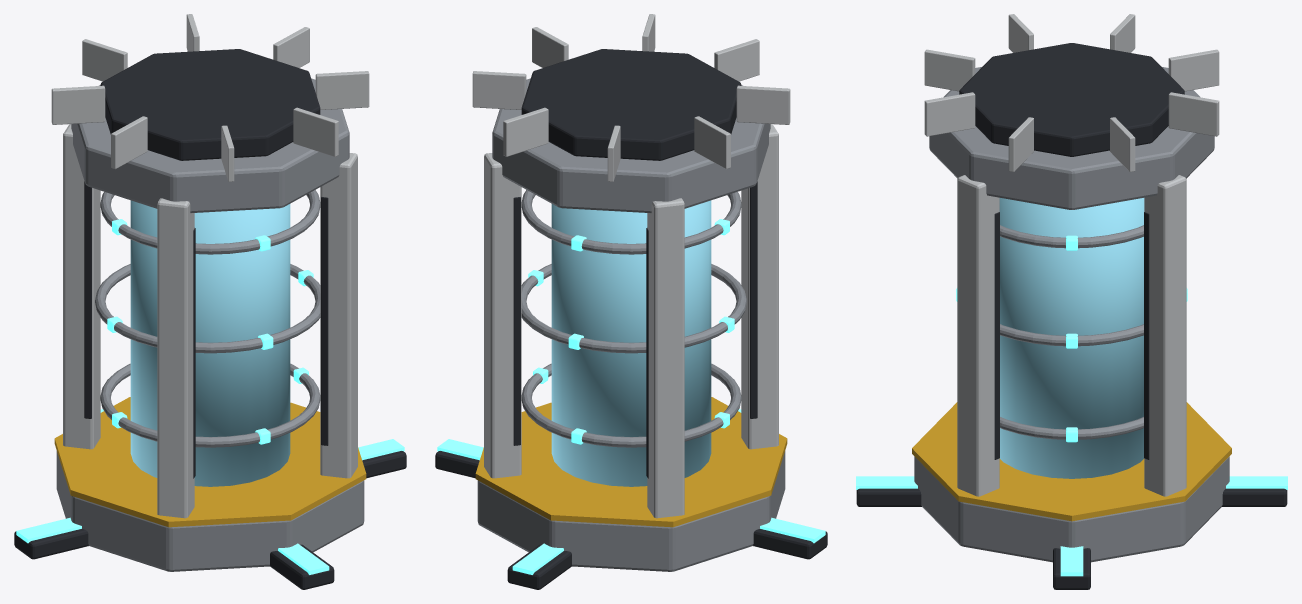
File: td_core.glb
3 views of the same model, side by side, from view 1: azimuth 30°, elevation 25°; view 2: azimuth 150°, elevation 25°; view 3: azimuth 270°, elevation 25° (orthographic).
Visible parts, largest first — view 1: CoreBody, CoreGlass, CoreRing1, CoreRing0, CoreRing2; view 2: CoreBody, CoreGlass, CoreRing1, CoreRing0, CoreRing2; view 3: CoreBody, CoreGlass, CoreRing1, CoreRing2, CoreRing0.
Boxes of the visible parts, box(x1,y1,x2,y2) form: CoreBody: box(14, 14, 406, 589); CoreGlass: box(130, 200, 290, 486); CoreRing1: box(95, 264, 320, 353); CoreRing0: box(100, 363, 320, 447); CoreRing2: box(100, 190, 320, 254); CoreBody: box(435, 14, 827, 589); CoreGlass: box(551, 200, 711, 486); CoreRing1: box(521, 264, 746, 353); CoreRing0: box(521, 363, 741, 447); CoreRing2: box(521, 190, 741, 254); CoreBody: box(856, 14, 1287, 589); CoreGlass: box(999, 198, 1144, 478); CoreRing1: box(956, 288, 1187, 348); CoreRing2: box(1000, 225, 1143, 250); CoreRing0: box(1000, 417, 1143, 442).
Size of the model in its own units: 5.72 by 6.2 by 5.72.
